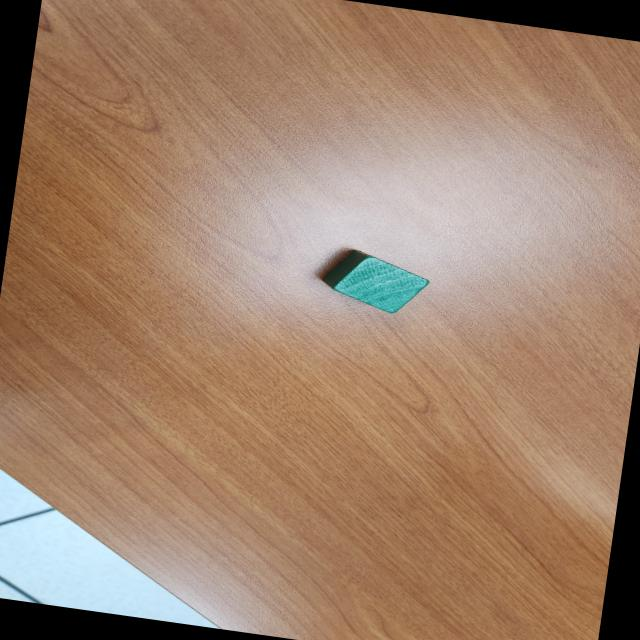green: (318, 246, 432, 318)
